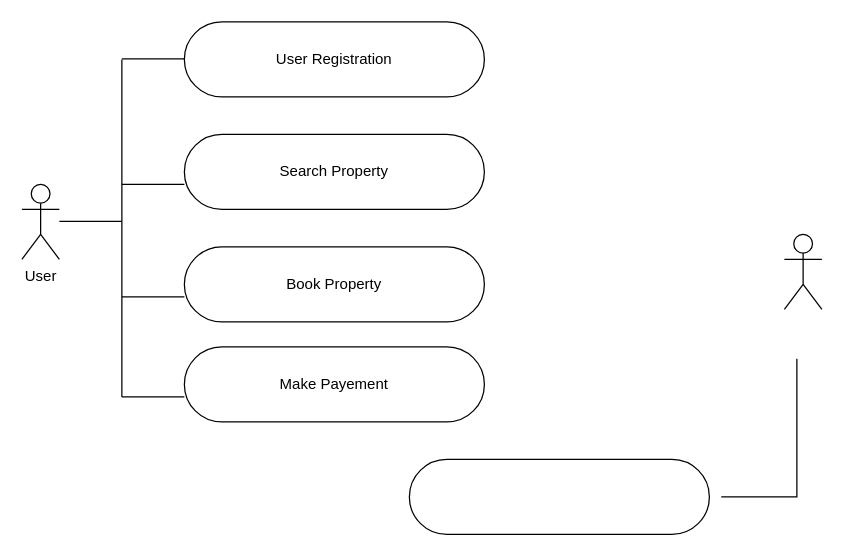
This 846x556 diagram has some shape labels left out. The box of each missing label's shape, as (x1, y1, x2, y2) in pixels:
Admin: (783, 233, 822, 309)
Manage Property: (408, 458, 709, 534)
